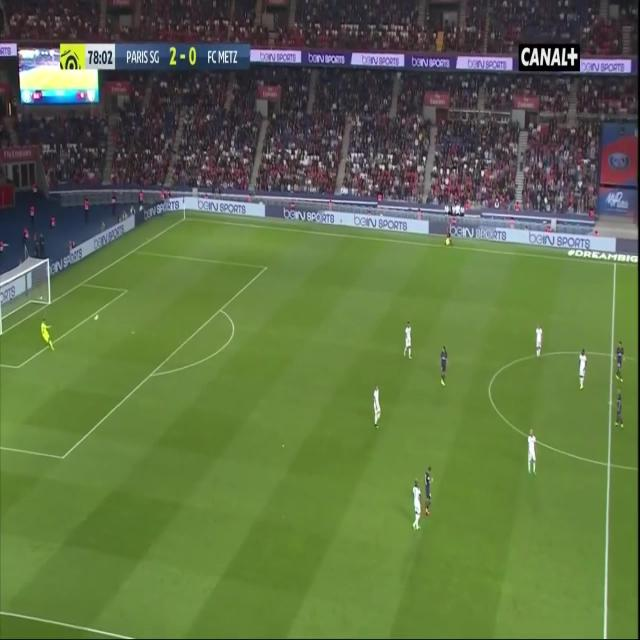Ball: (92, 310, 100, 324)
Goalkeeper: (39, 314, 57, 355)
Player: (525, 424, 540, 476), (411, 476, 423, 538), (614, 338, 628, 386), (371, 382, 382, 436), (577, 348, 590, 393), (614, 387, 626, 434), (533, 321, 546, 364), (402, 318, 414, 363), (438, 344, 449, 387)
Referee: (442, 223, 455, 251)
